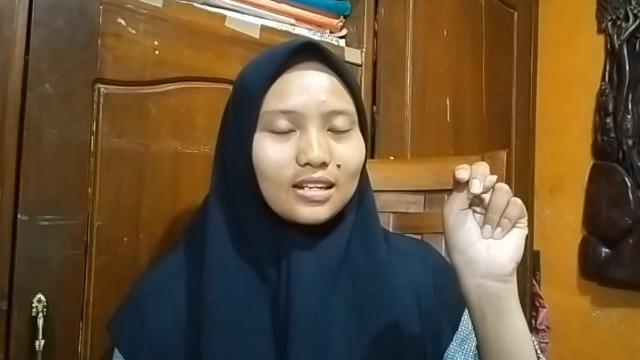N: (440, 160, 528, 282)
